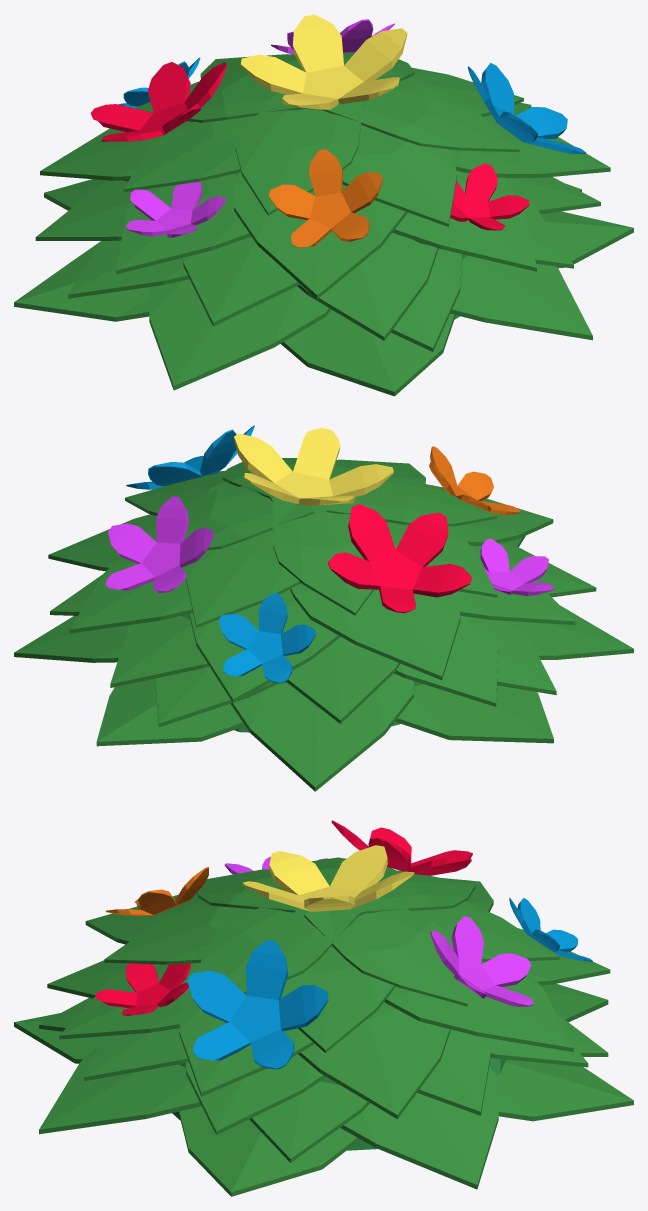
The model's file is BushFlowers.fbx.
3 views of the same model, one above another, from view 1: azimuth 30°, elevation 25°; view 2: azimuth 150°, elevation 25°; view 3: azimuth 270°, elevation 25° (orthographic). The views are drawn at different scales.
Visible parts, largest first — view 1: BushFlowers; view 2: BushFlowers; view 3: BushFlowers.
Boxes of the visible parts, <box> form: BushFlowers: <box>14,14,633,396</box>; BushFlowers: <box>14,425,633,791</box>; BushFlowers: <box>14,820,633,1196</box>.
Bounding box in the file's own units: 982 × 373 × 971.
